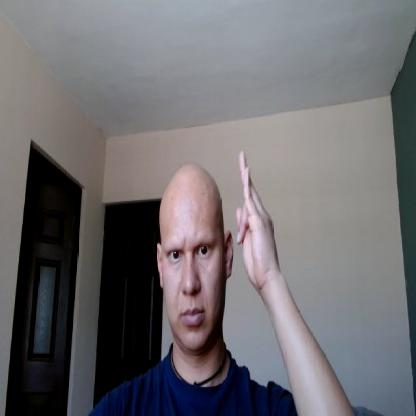F: (235, 150, 277, 290)
